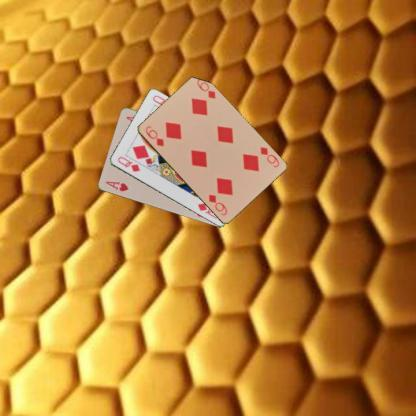6d: (142, 123, 166, 147), (257, 144, 280, 169)
Ah: (102, 178, 130, 194)
Qd: (115, 154, 141, 174)
